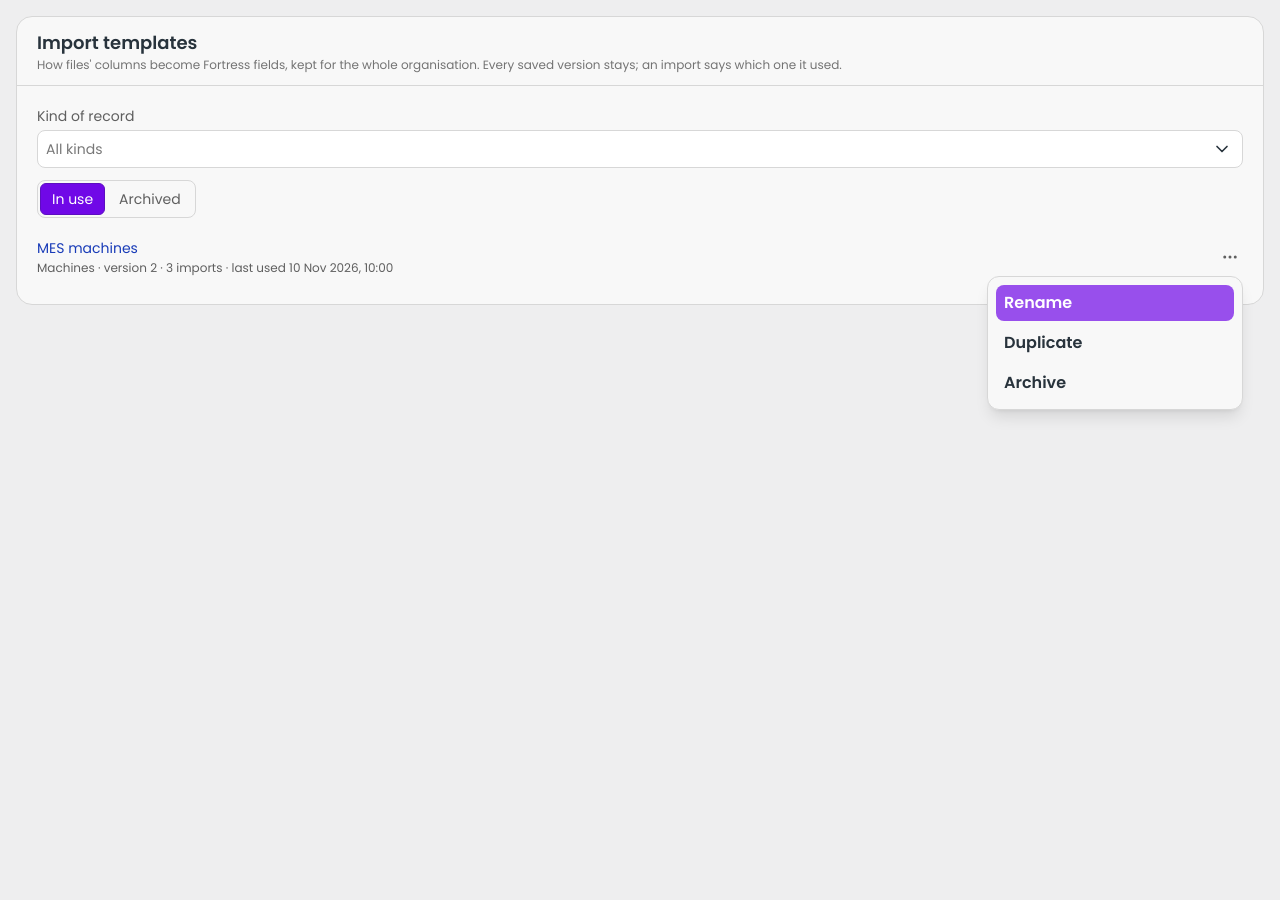
Test case: template manager › archives with a reason, and duplicates into a new template
Earlier steps of the test are not shown.
Click the menu item "Archive" at (1115, 383), box 996,365 -> 1234,401
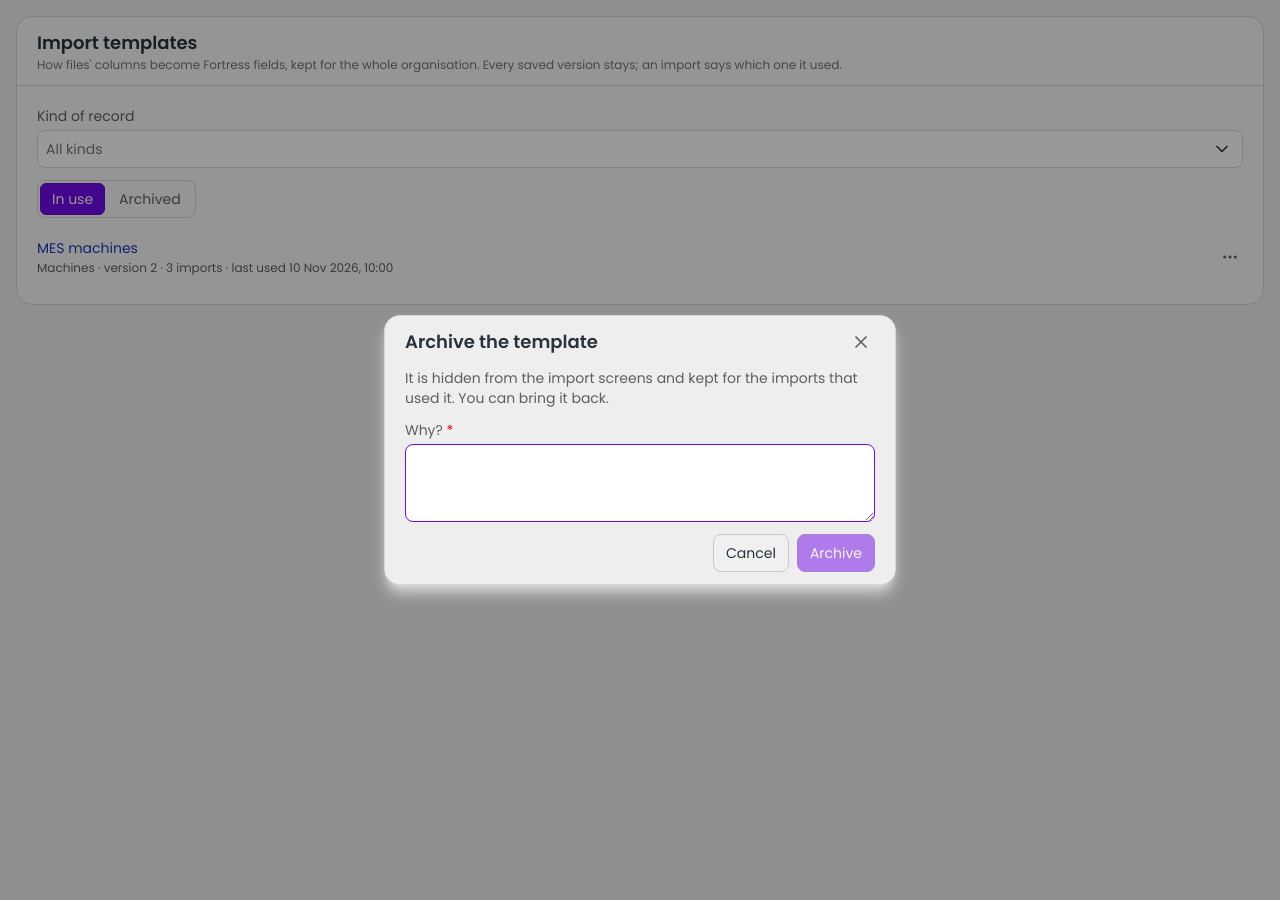
expect the button "Archive" is disabled: met, box 797,534 -> 875,572
Type "Not used" into the text box labelled "Why?" at (640, 483), box 405,444 -> 875,522
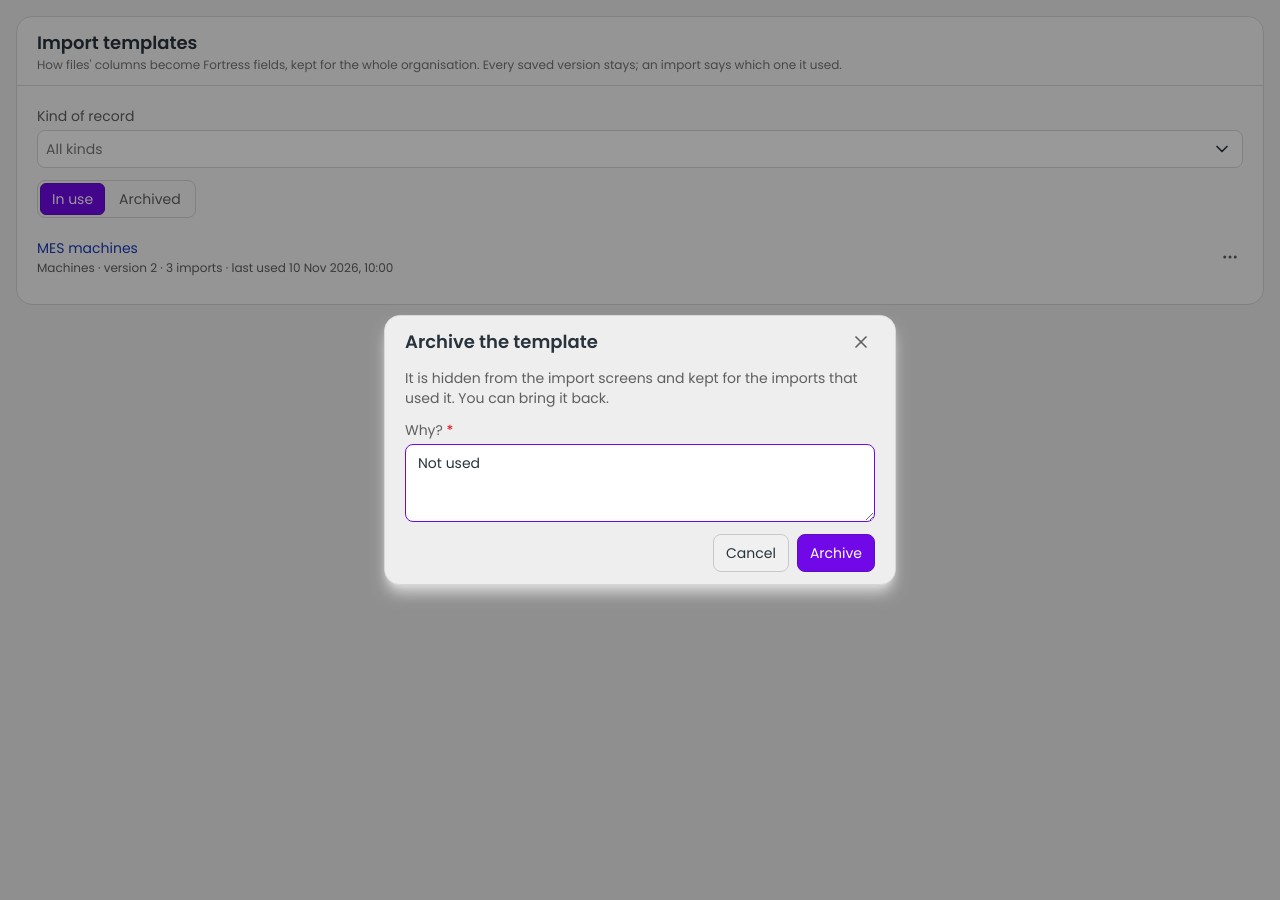
Click the button "Archive" at (836, 553), box 797,534 -> 875,572
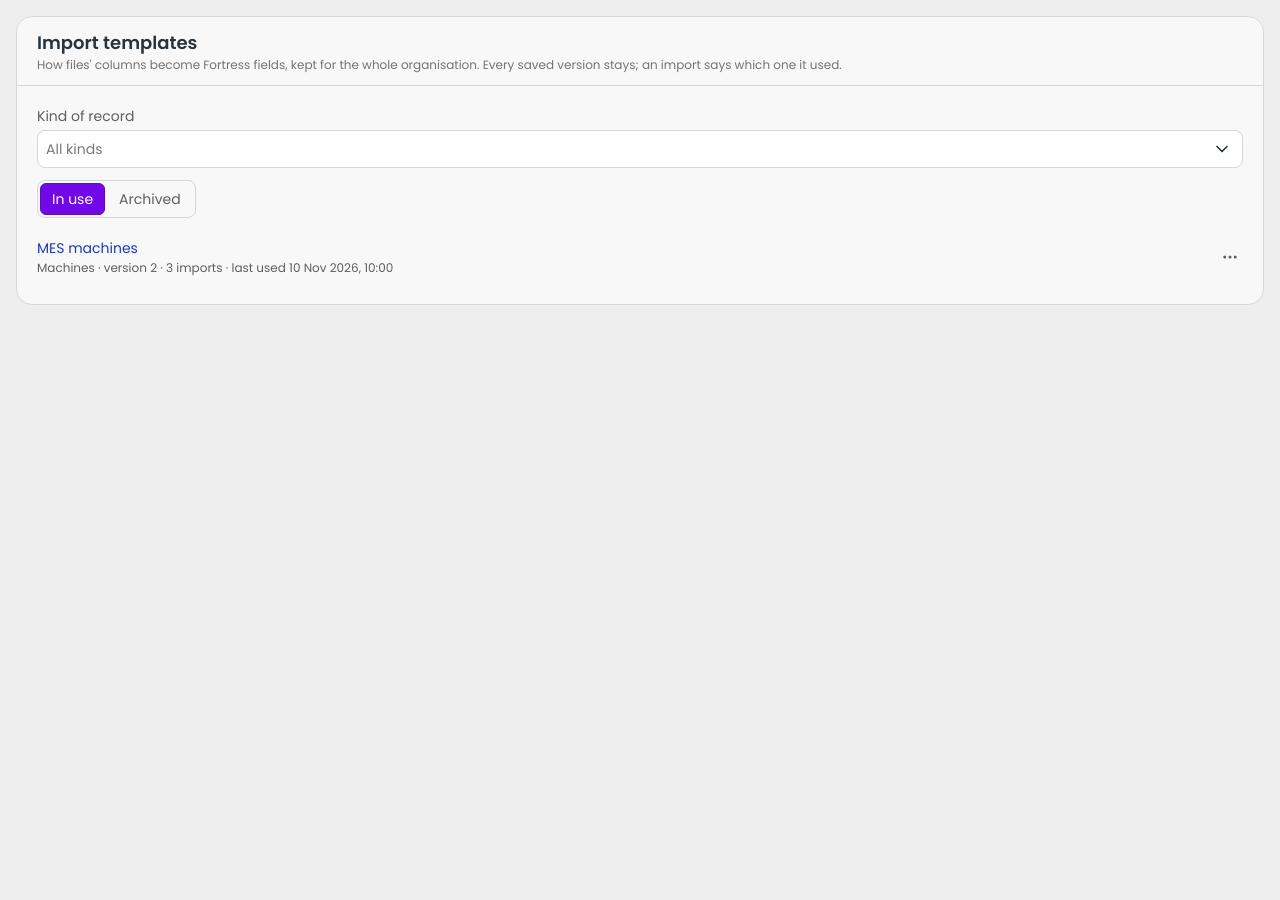
Click the button named "Actions" at (1230, 257), box 1217,244 -> 1243,270
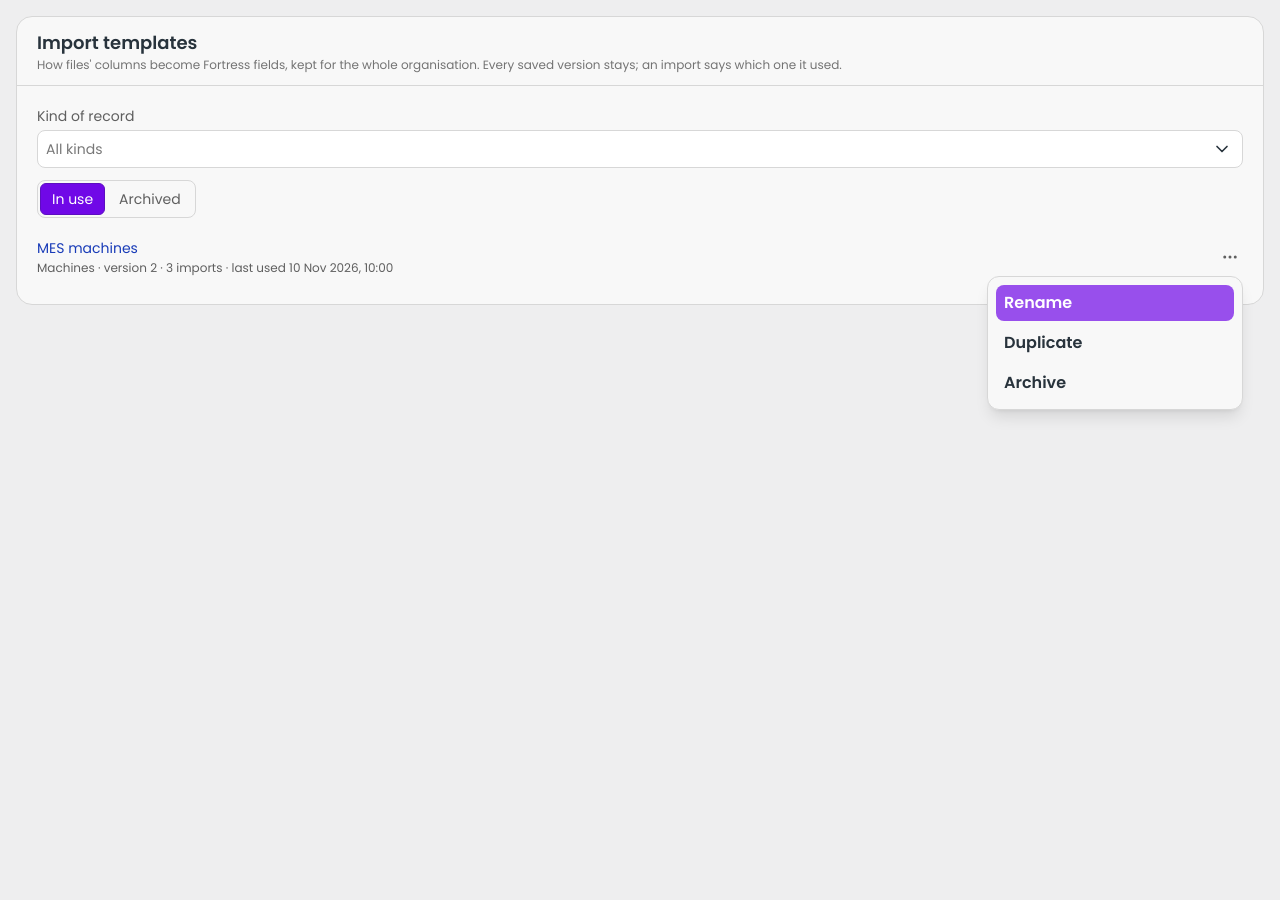
Click the menu item "Duplicate" at (1115, 343), box 996,325 -> 1234,361
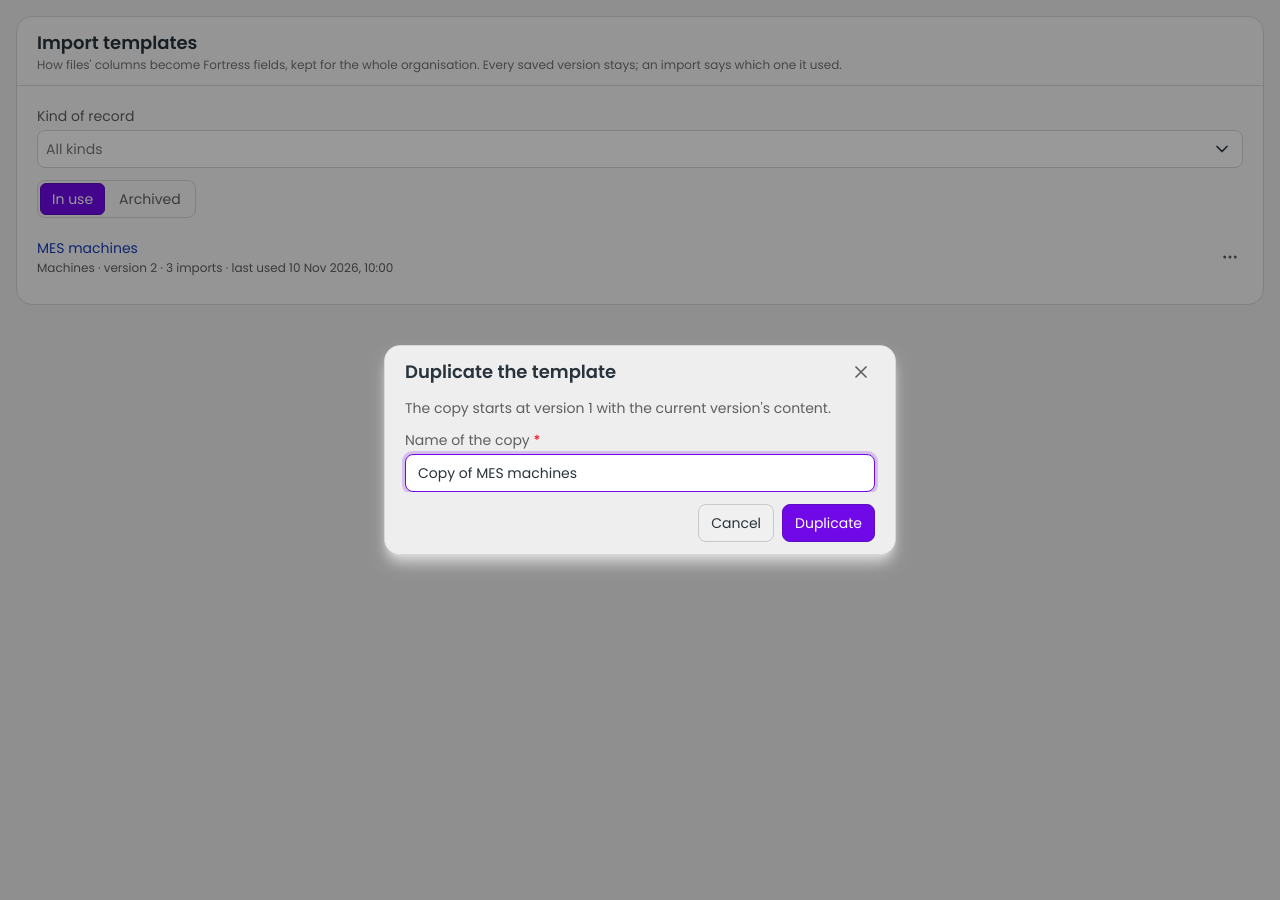
expect the field labelled "Name of the copy" holds "Copy of MES machines": met, box 405,454 -> 875,492
Click the button "Duplicate" at (828, 523), box 782,504 -> 875,542
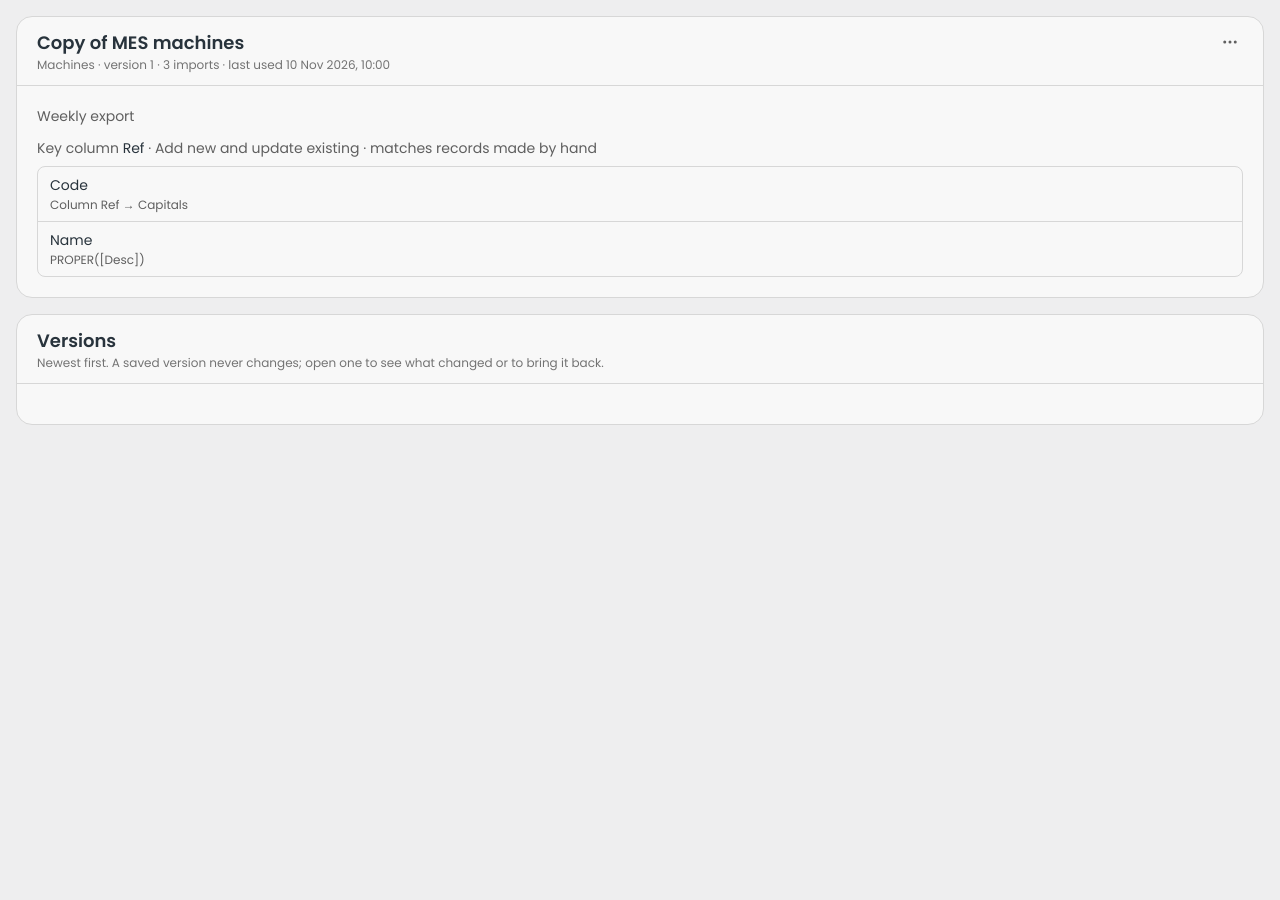
expect the text "Machines · version 1" is shown: met, box 37,56 -> 390,73
